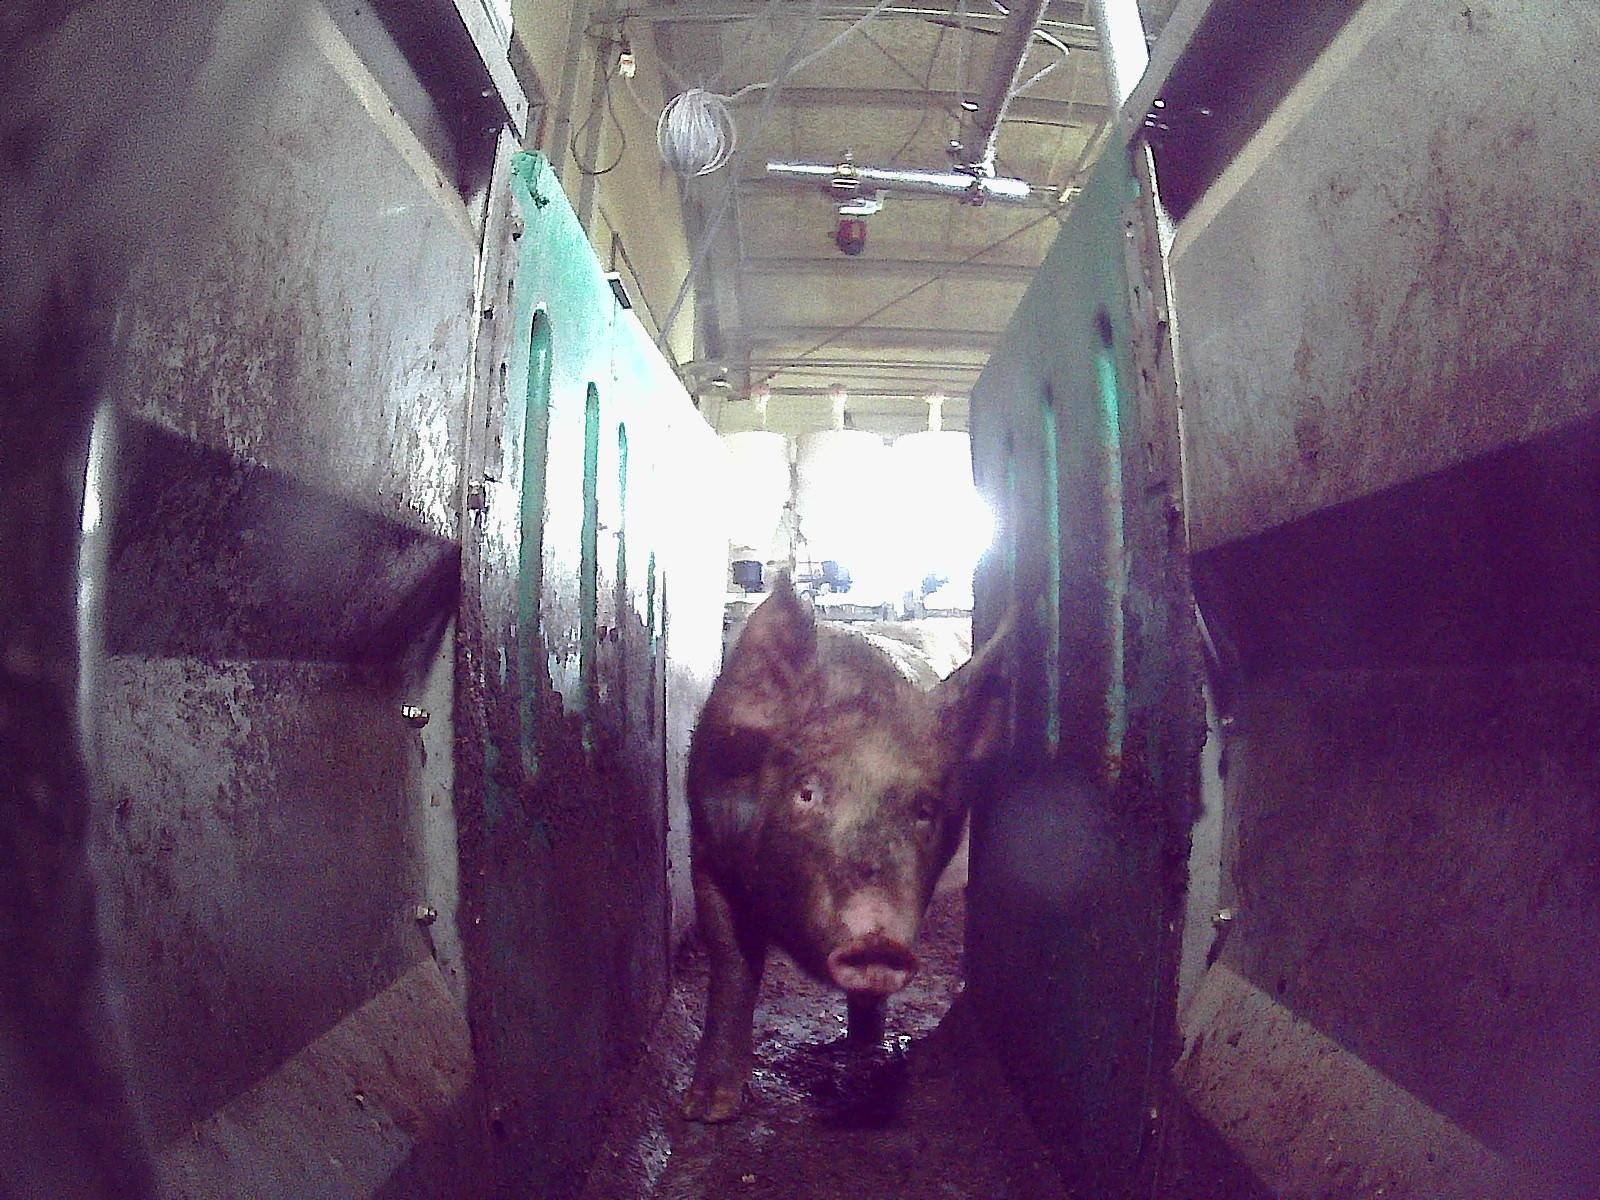Face: (752, 693, 942, 992)
